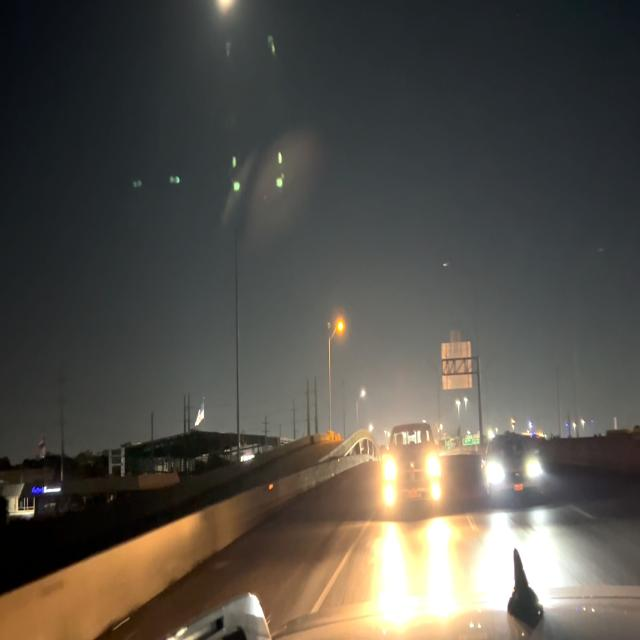back-of-sign: (443, 340, 473, 391)
